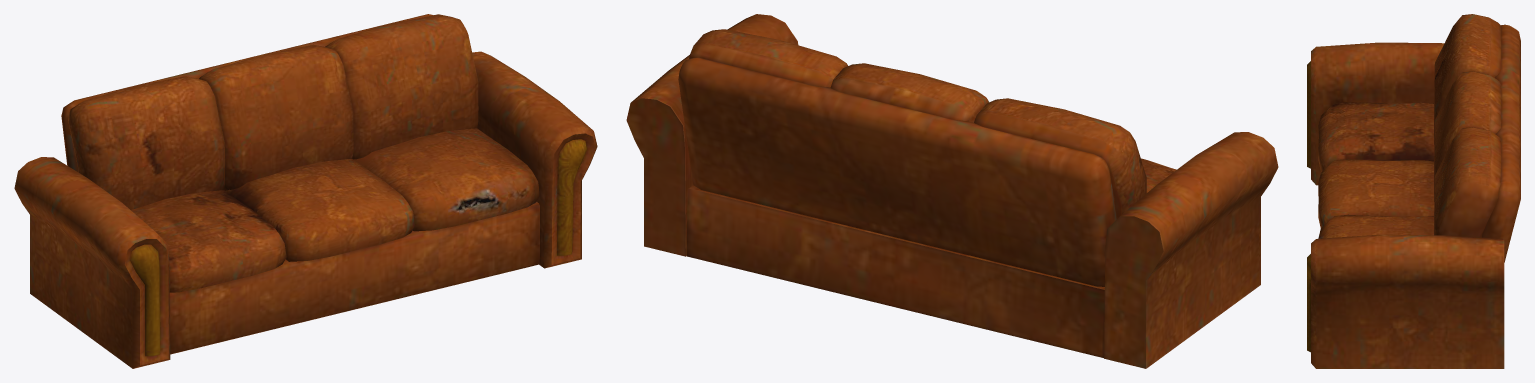
File: sofa.gltf
The picture shows the model from 3 angles, left to right: view 1: azimuth 30°, elevation 25°; view 2: azimuth 150°, elevation 25°; view 3: azimuth 270°, elevation 25°; orthographic projection. The views are drawn at different scales.
Visible parts, largest first — view 1: Box011_02 - Default_0; view 2: Box011_02 - Default_0; view 3: Box011_02 - Default_0.
Part boxes in pixels (box(x1,y1,x2,y2)): Box011_02 - Default_0: box(14, 14, 597, 368); Box011_02 - Default_0: box(626, 14, 1278, 368); Box011_02 - Default_0: box(1307, 14, 1520, 368).
Bounding box in the file's own units: 2.32 × 0.8949 × 0.9785.
1 material, 1 textured.
